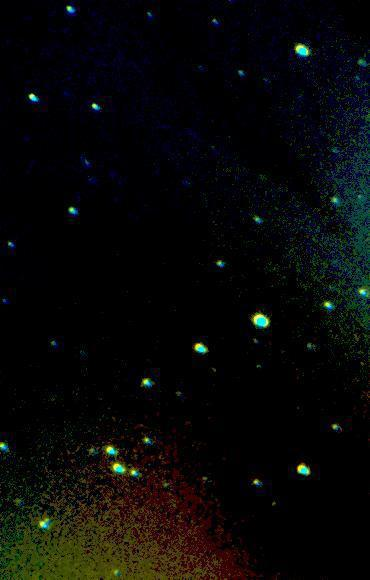star: (247, 168, 277, 198)
